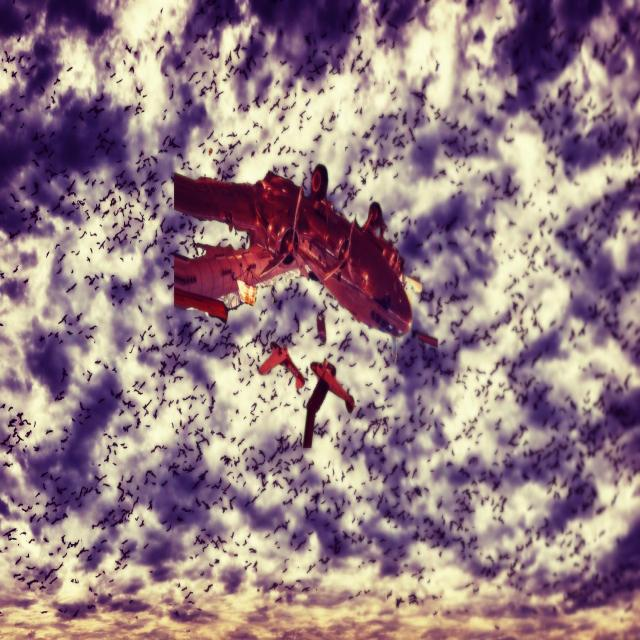airplane: (174, 161, 438, 360), (303, 361, 354, 449), (257, 338, 305, 391)
